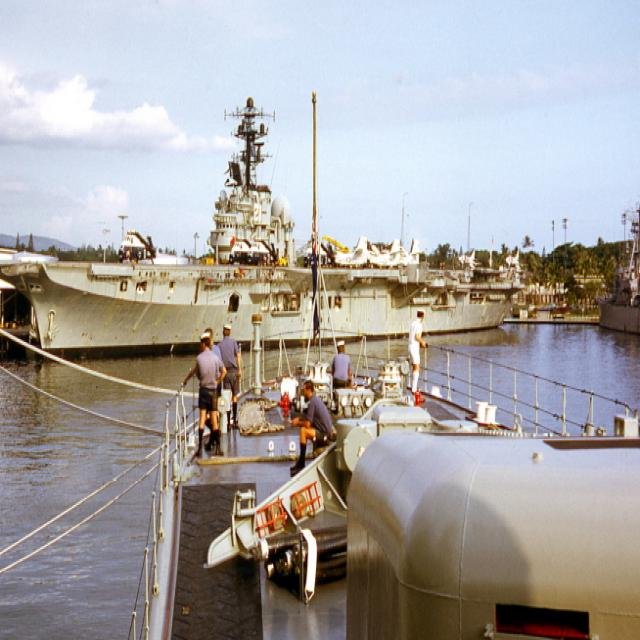Portanaves: (1, 67, 527, 364)
